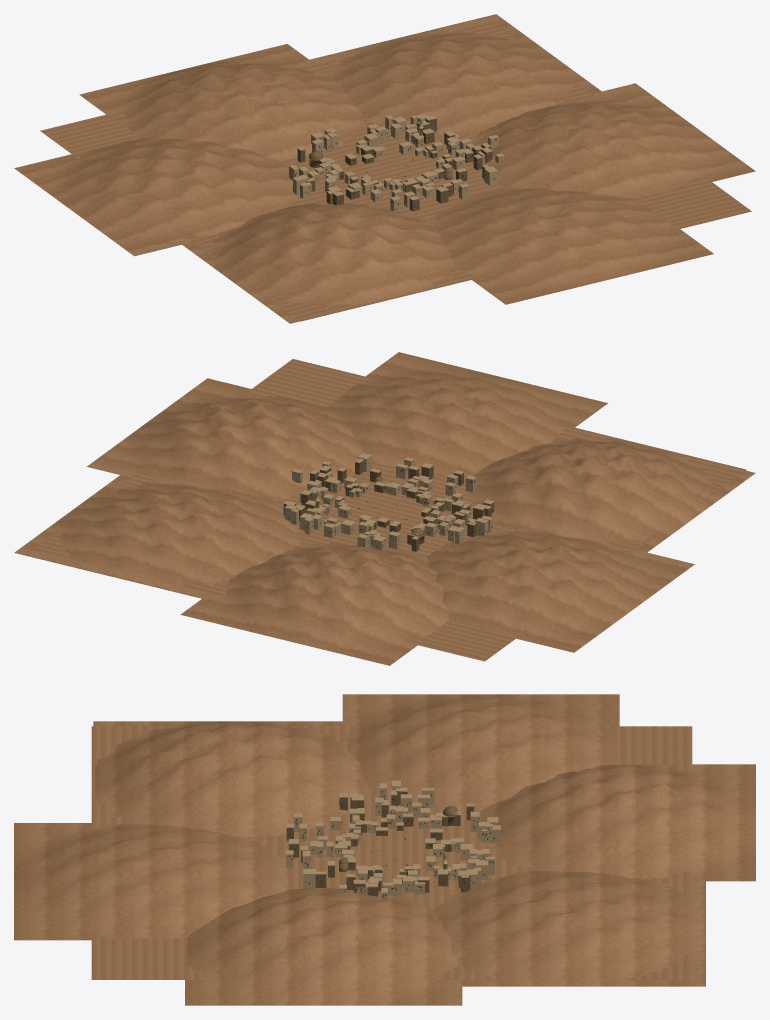
The model's file is kasaba_cevre.glb.
The picture shows the model from 3 angles, top to bottom: view 1: azimuth 30°, elevation 25°; view 2: azimuth 150°, elevation 25°; view 3: azimuth 270°, elevation 25°; orthographic projection. The views are drawn at different scales.
Visible parts, largest first — view 1: K_tepe1, K_tepe3, K_tepe2, K_tepe0, K_tepe5, K_tepe4, K_zemin, K_ev, K_evs, K_pen; view 2: K_tepe4, K_tepe3, K_tepe5, K_tepe1, K_tepe2, K_tepe0, K_zemin, K_ev, K_evs, K_pen; view 3: K_tepe0, K_tepe1, K_tepe4, K_tepe5, K_tepe2, K_tepe3, K_zemin, K_ev, K_evs, K_pen.
Boxes of the visible parts, left/top/right/bottom form: K_tepe1: left=428, top=188, right=713, bottom=304; K_tepe3: left=14, top=138, right=300, bottom=256; K_tepe2: left=176, top=202, right=457, bottom=323; K_tepe0: left=468, top=83, right=755, bottom=199; K_tepe5: left=291, top=14, right=615, bottom=133; K_tepe4: left=79, top=44, right=367, bottom=161; K_zemin: left=40, top=20, right=751, bottom=321; K_ev: left=289, top=114, right=504, bottom=211; K_evs: left=297, top=118, right=492, bottom=211; K_pen: left=290, top=120, right=502, bottom=209; K_tepe4: left=180, top=542, right=449, bottom=665; K_tepe3: left=426, top=530, right=694, bottom=652; K_tepe5: left=14, top=465, right=300, bottom=603; K_tepe1: left=326, top=352, right=607, bottom=473; K_tepe2: left=467, top=437, right=755, bottom=555; K_tepe0: left=86, top=378, right=363, bottom=500; K_zemin: left=31, top=359, right=746, bottom=661; K_ev: left=283, top=453, right=494, bottom=549; K_evs: left=283, top=460, right=494, bottom=551; K_pen: left=284, top=461, right=493, bottom=547; K_tepe0: left=185, top=888, right=462, bottom=1005; K_tepe1: left=14, top=823, right=289, bottom=940; K_tepe4: left=480, top=764, right=755, bottom=881; K_tepe5: left=433, top=870, right=705, bottom=986; K_tepe2: left=93, top=721, right=368, bottom=837; K_tepe3: left=342, top=694, right=619, bottom=810; K_zemin: left=91, top=726, right=692, bottom=979; K_ev: left=286, top=780, right=500, bottom=901; K_evs: left=286, top=791, right=473, bottom=896; K_pen: left=288, top=791, right=494, bottom=897.
Bounding box in the file's own units: 637 × 40 × 642.
Materials: 24 (23 with a texture image).
